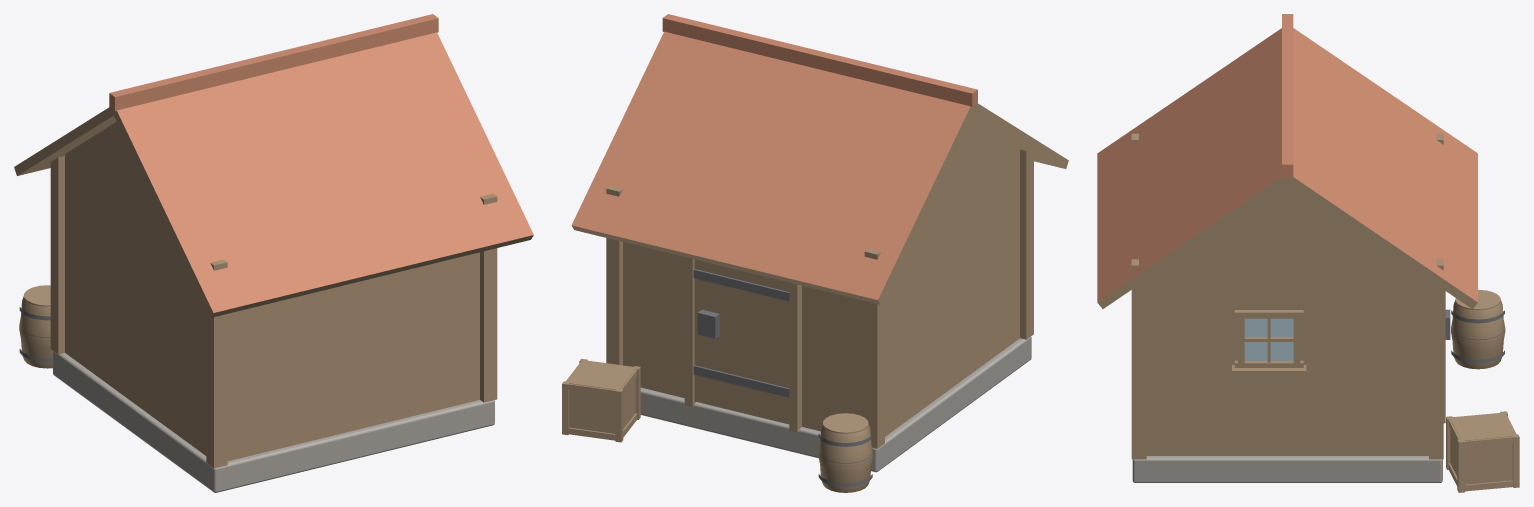
File: storage_hut.glb
The picture shows the model from 3 angles, left to right: view 1: azimuth 30°, elevation 25°; view 2: azimuth 150°, elevation 25°; view 3: azimuth 270°, elevation 25°; orthographic projection. The views are drawn at different scales.
Visible parts, largest first — view 1: Storage; view 2: Storage; view 3: Storage.
Boxes of the visible parts, box(x1,y1,x2,y2) form: Storage: box(14, 14, 533, 492); Storage: box(562, 14, 1068, 492); Storage: box(1097, 14, 1519, 492).
Size of the model in its own units: 3.84 by 3.91 by 4.55.
